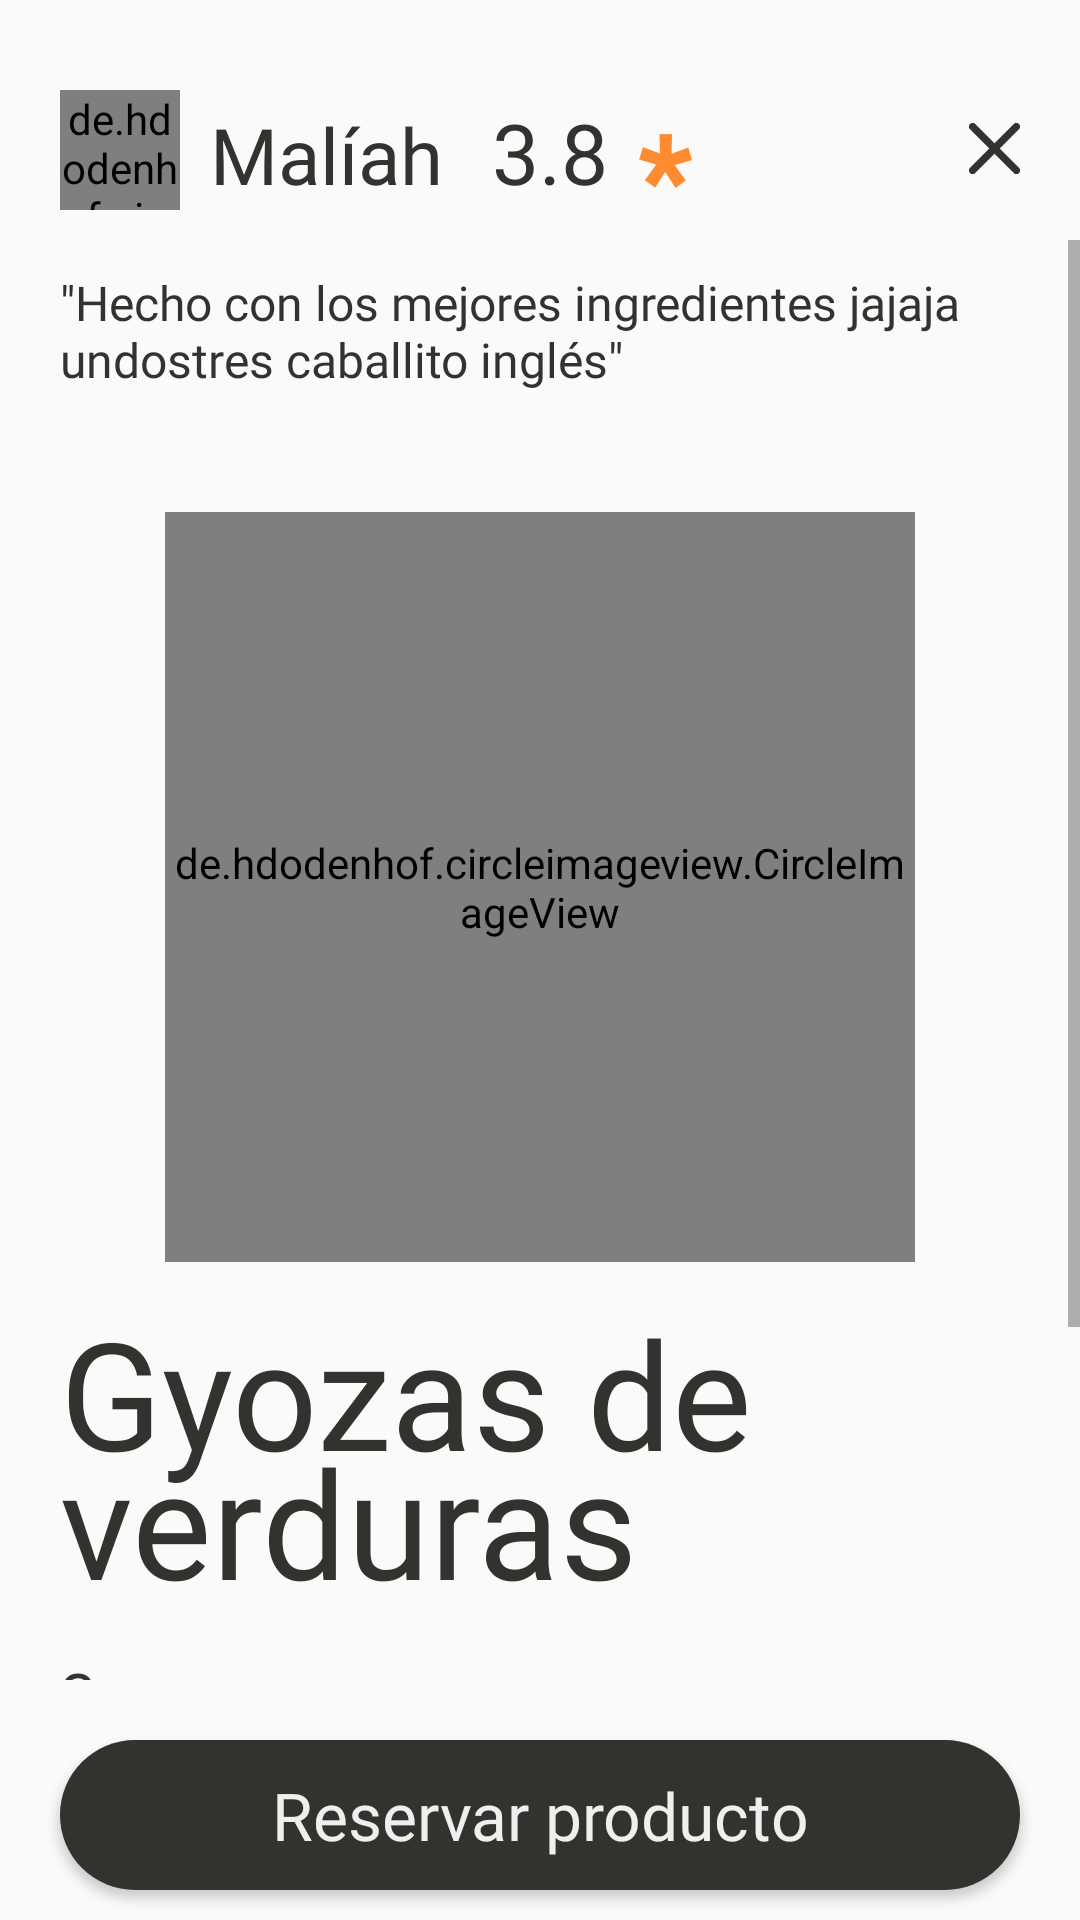

Icon bounding boxes for this 1080 x 1920 phone screenshot, format (x1, y1, x2, y2):
cerrar: (969, 123, 1020, 174)
